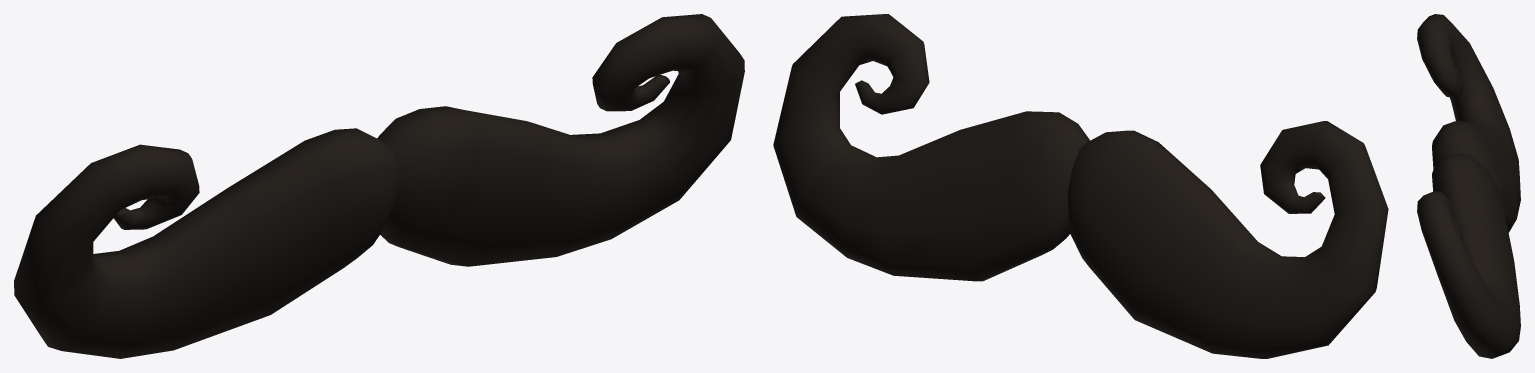
The model's file is Beard_16_01.fbx.
The picture shows the model from 3 angles, left to right: view 1: azimuth 30°, elevation 25°; view 2: azimuth 150°, elevation 25°; view 3: azimuth 270°, elevation 25°; orthographic projection. The views are drawn at different scales.
Visible parts, largest first — view 1: Beard_16_01; view 2: Beard_16_01; view 3: Beard_16_01.
Boxes of the visible parts, box(x1,y1,x2,y2) form: Beard_16_01: box(14, 14, 744, 358); Beard_16_01: box(773, 14, 1388, 358); Beard_16_01: box(1417, 14, 1520, 358).
Bounding box in the file's own units: 14.58 × 4.99 × 2.74.
